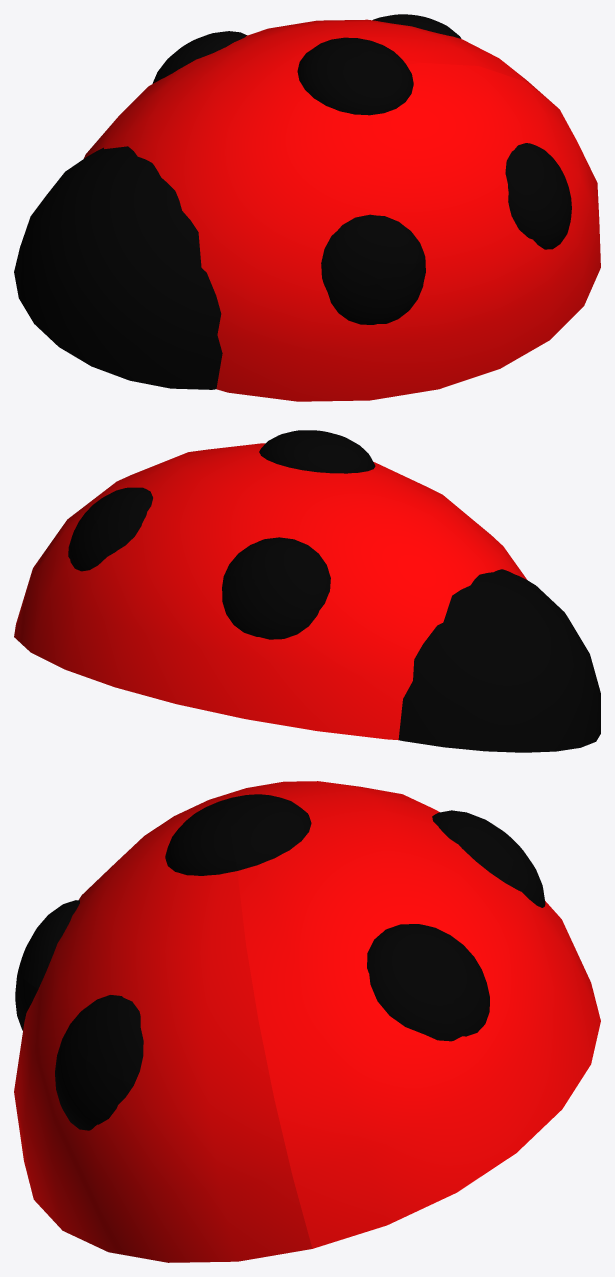
The model's file is ladybug.glb.
3 renders of one model, top to bottom at view 1: azimuth 30°, elevation 25°; view 2: azimuth 150°, elevation 25°; view 3: azimuth 270°, elevation 25°, orthographic. The views are drawn at different scales.
Parts seen in each view (by area): view 1: Sphere_2; view 2: Sphere_2; view 3: Sphere_2.
Boxes of the visible parts, left/top/right/bottom form: Sphere_2: left=14, top=14, right=600, bottom=401; Sphere_2: left=14, top=430, right=600, bottom=752; Sphere_2: left=14, top=781, right=600, bottom=1262.
Bounding box in the file's own units: 2.7 × 1.31 × 1.97.
